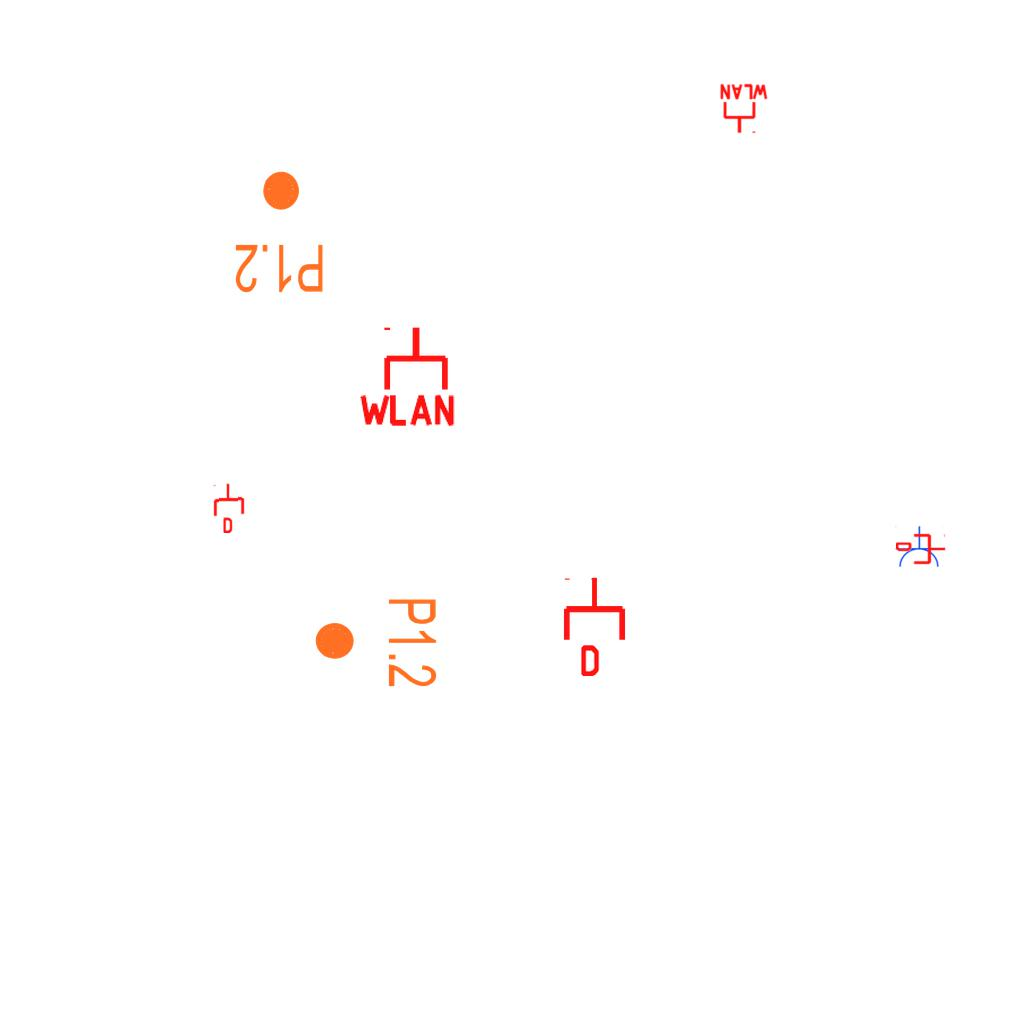Datenanschluss_einfach: (560, 576, 629, 676), (210, 482, 248, 534), (896, 532, 946, 566)
Downlight_LED_Einbauleuchten_Flur: (312, 596, 440, 689), (233, 168, 326, 296)
Schukosteckdose_einfach: (894, 526, 944, 569)
WLAN: (355, 323, 459, 428), (718, 83, 770, 135)
